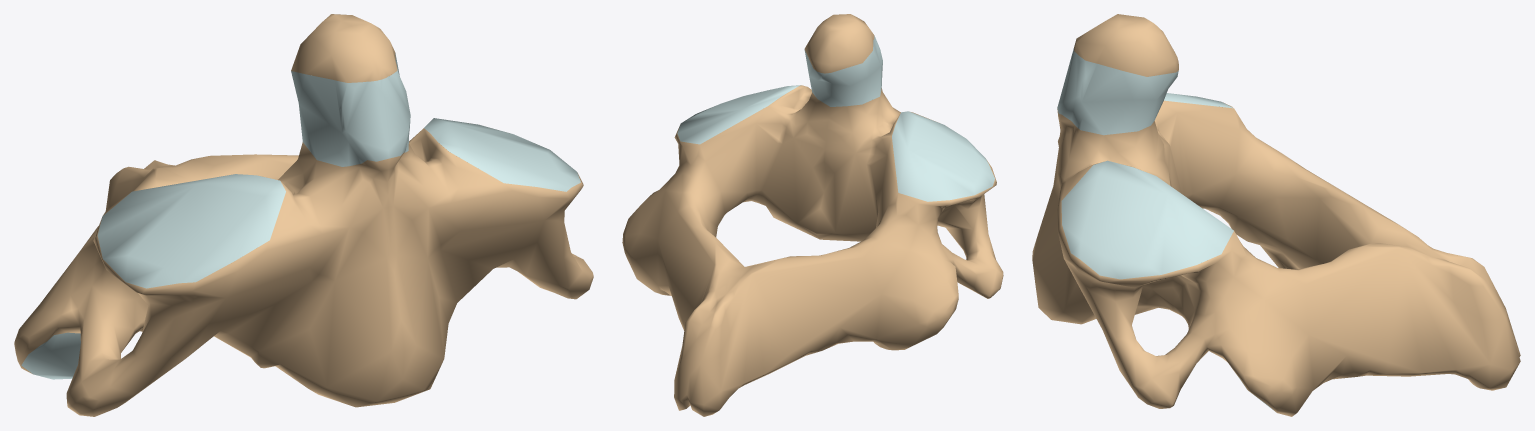
File: Axis.glb
3 views of the same model, side by side, from view 1: azimuth 30°, elevation 25°; view 2: azimuth 150°, elevation 25°; view 3: azimuth 270°, elevation 25° (orthographic). The views are drawn at different scales.
Visible parts, largest first — view 1: Axis_Cone.048; view 2: Axis_Cone.048; view 3: Axis_Cone.048.
Part boxes in pixels (x1,y1,x2,y2): Axis_Cone.048: [14, 14, 593, 416]; Axis_Cone.048: [622, 14, 1003, 416]; Axis_Cone.048: [1032, 14, 1520, 416].
Bounding box in the file's own units: 0.0536 × 0.0429 × 0.0527.
